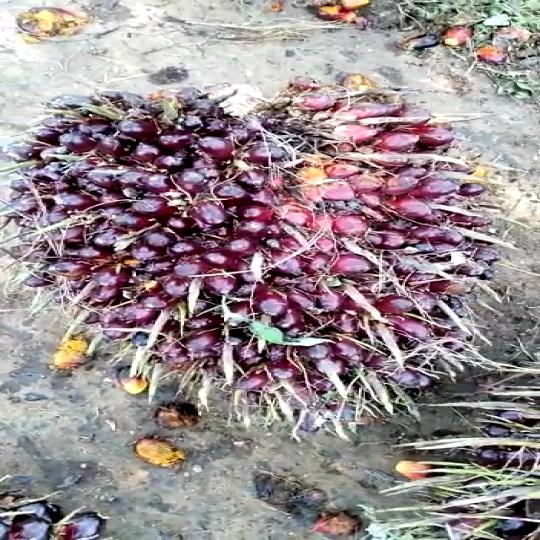kurang masak: (20, 81, 528, 437)
